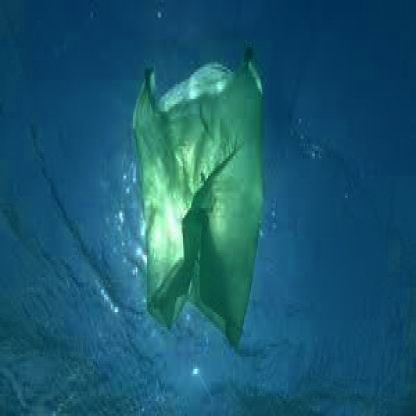pbag: (132, 45, 266, 354)
